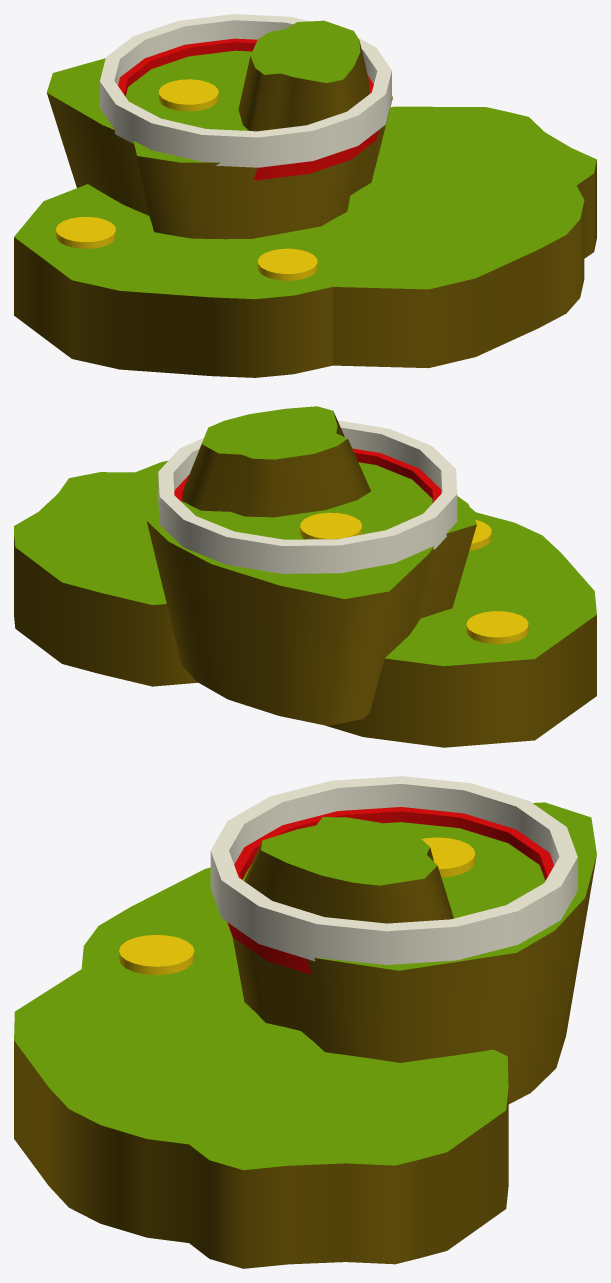
Rendered from SM_C_City.fbx.
The picture shows the model from 3 angles, top to bottom: view 1: azimuth 30°, elevation 25°; view 2: azimuth 150°, elevation 25°; view 3: azimuth 270°, elevation 25°; orthographic projection. The views are drawn at different scales.
Parts seen in each view (by area): view 1: Cylinder__8_3; view 2: Cylinder__8_3; view 3: Cylinder__8_3.
Part boxes in pixels (x1,y1,x2,y2): Cylinder__8_3: [14, 14, 596, 377]; Cylinder__8_3: [14, 406, 596, 747]; Cylinder__8_3: [14, 776, 596, 1268].
Bounding box in the file's own units: 2227 × 878 × 1733.
